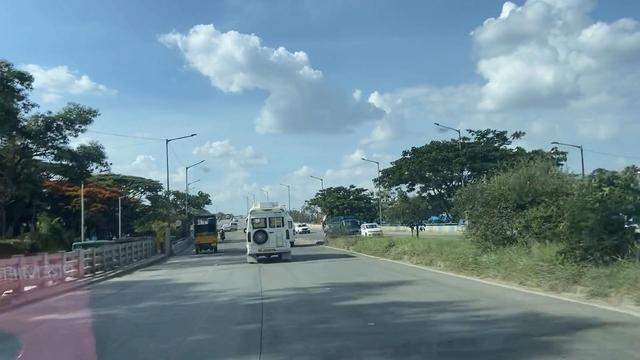HMV: (243, 200, 293, 262), (189, 211, 219, 254)
